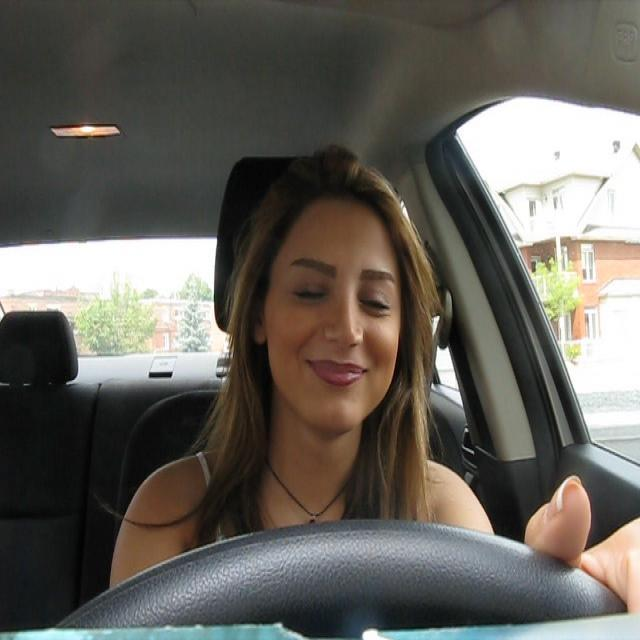close: (287, 254, 341, 314), (355, 263, 399, 317)
